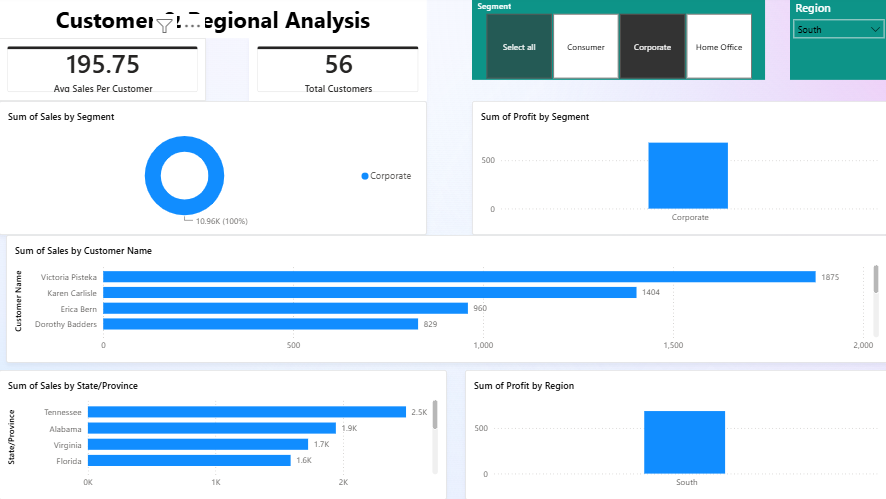

The page's visual inventory and layout, read from the dashboard file:
{"tool":"powerbi","page":{"name":"Page 3","canvas":[1280,720],"ordinal":2},"visuals":[{"type":"slicer","fields":{"Values":["samplesuperstore.Region"]},"box":[1139,0,141.1,115.2],"z":0},{"type":"slicer","fields":{"Values":["samplesuperstore.Segment"]},"box":[681.1,0,421.9,115.2],"z":1000},{"type":"textbox","box":[0,0,616.3,54.7],"z":2000},{"type":"cardVisual","fields":{"Data":["samplesuperstore.Total Customers"]},"box":[360,54.7,256.3,90.7],"z":3000},{"type":"cardVisual","fields":{"Data":["samplesuperstore.Avg Sales Per Customer"]},"box":[0,54.7,298.1,90.7],"z":4000},{"type":"donutChart","fields":{"Category":["samplesuperstore.Segment"],"Y":["Sum(samplesuperstore.Sales)"]},"box":[0,145.4,616.3,193],"z":5000},{"type":"clusteredColumnChart","fields":{"Category":["samplesuperstore.Segment"],"Y":["Sum(samplesuperstore.Profit)"]},"box":[681.1,145.4,599,193],"z":6000},{"type":"clusteredColumnChart","fields":{"Category":["samplesuperstore.Region"],"Y":["Sum(samplesuperstore.Profit)"]},"box":[671,532.8,609.1,187.2],"z":8000},{"type":"clusteredBarChart","fields":{"Category":["samplesuperstore.Customer Name"],"Y":["Sum(samplesuperstore.Sales)"]},"box":[10.1,338.4,1270.1,184.3],"z":9000},{"type":"clusteredBarChart","fields":{"Category":["samplesuperstore.State/Province"],"Y":["Sum(samplesuperstore.Sales)"]},"box":[0,532.8,645.1,187.2],"z":10000}]}

Visuals, with their boxes in screenshot pixels (x1, y1, x2, y2), scaled from the page's 1280x720 canvas onto the 886x499 screenshot:
slicer - samplesuperstore.Region: BBox(788, 0, 885, 80)
slicer - samplesuperstore.Segment: BBox(471, 0, 763, 80)
textbox: BBox(0, 0, 427, 38)
cardVisual - samplesuperstore.Total Customers: BBox(249, 38, 427, 101)
cardVisual - samplesuperstore.Avg Sales Per Customer: BBox(0, 38, 206, 101)
donutChart - samplesuperstore.Segment x Sum(samplesuperstore.Sales): BBox(0, 101, 427, 235)
clusteredColumnChart - samplesuperstore.Segment x Sum(samplesuperstore.Profit): BBox(471, 101, 885, 235)
clusteredColumnChart - samplesuperstore.Region x Sum(samplesuperstore.Profit): BBox(464, 369, 885, 498)
clusteredBarChart - samplesuperstore.Customer Name x Sum(samplesuperstore.Sales): BBox(7, 235, 885, 362)
clusteredBarChart - samplesuperstore.State/Province x Sum(samplesuperstore.Sales): BBox(0, 369, 447, 498)
